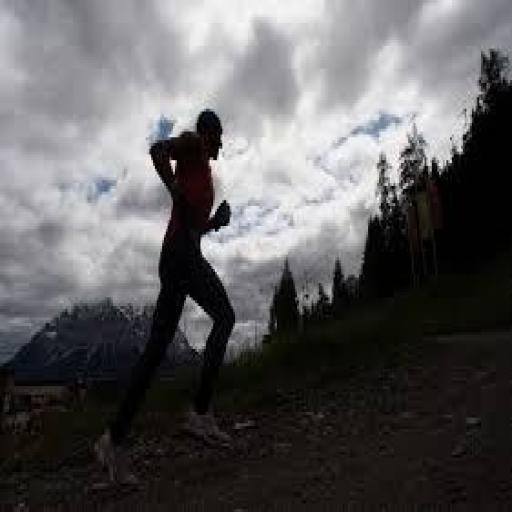running: (91, 103, 239, 486)
